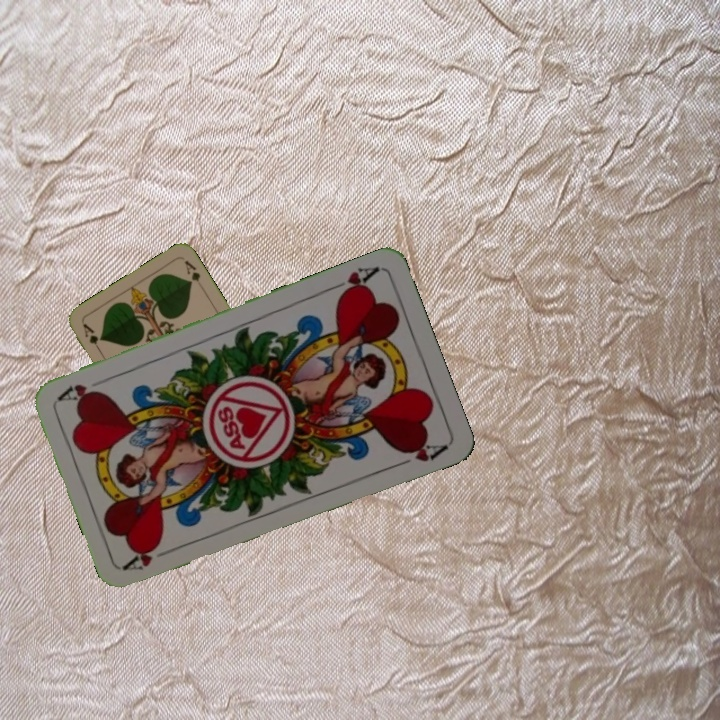GA: (79, 319, 105, 356)
HA: (325, 262, 382, 301), (121, 540, 178, 574)
